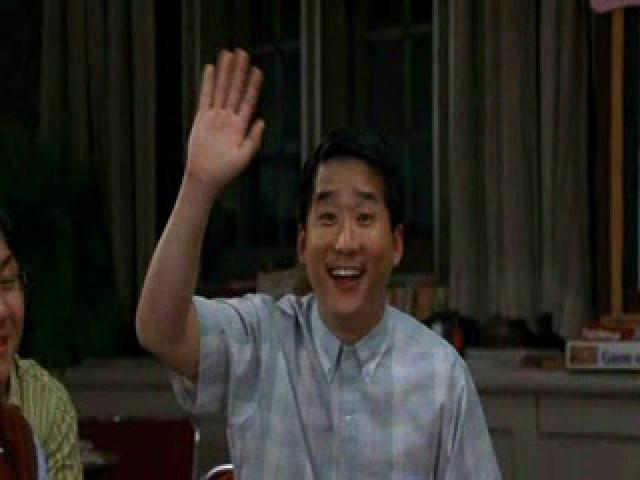T: (116, 37, 513, 480)
